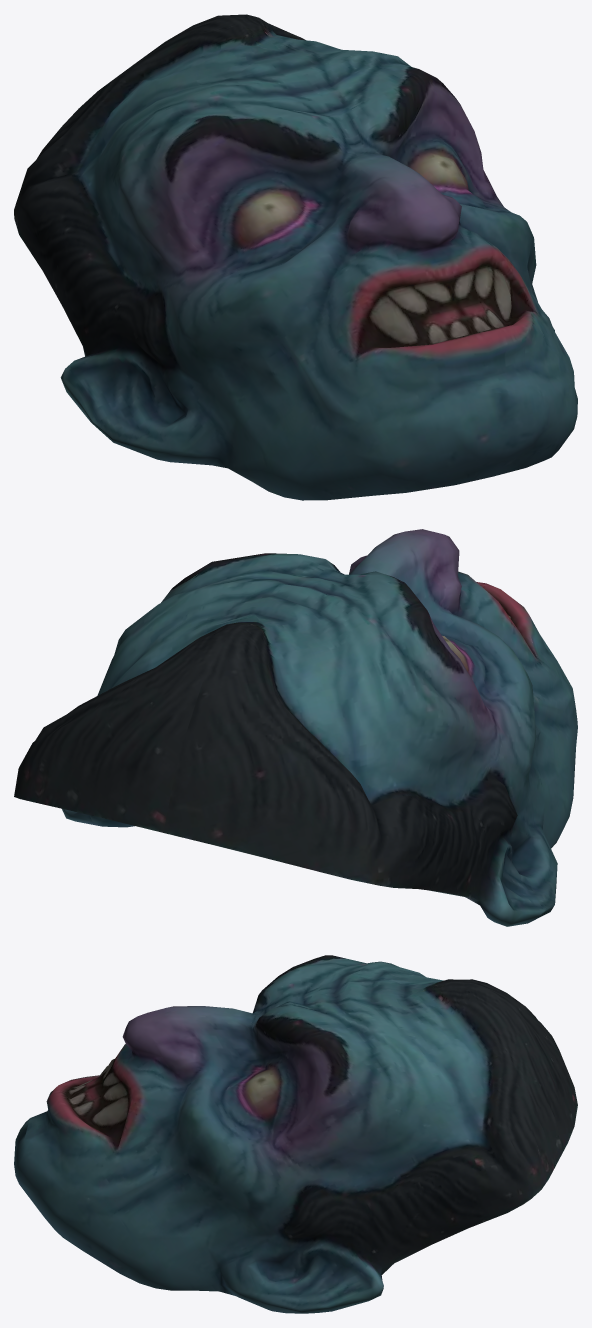
File: draculamask.worldmodel.glb
The picture shows the model from 3 angles, top to bottom: view 1: azimuth 30°, elevation 25°; view 2: azimuth 150°, elevation 25°; view 3: azimuth 270°, elevation 25°; orthographic projection. The views are drawn at different scales.
Visible parts, largest first — view 1: DraculaMask_wm_LOD0; view 2: DraculaMask_wm_LOD0; view 3: DraculaMask_wm_LOD0.
Boxes of the visible parts, box(x1,y1,x2,y2) form: DraculaMask_wm_LOD0: box(14, 14, 577, 500); DraculaMask_wm_LOD0: box(14, 529, 577, 926); DraculaMask_wm_LOD0: box(14, 955, 577, 1313).
Size of the model in its own units: 0.2155 by 0.143 by 0.2862.
Materials: 1 (1 with a texture image).
